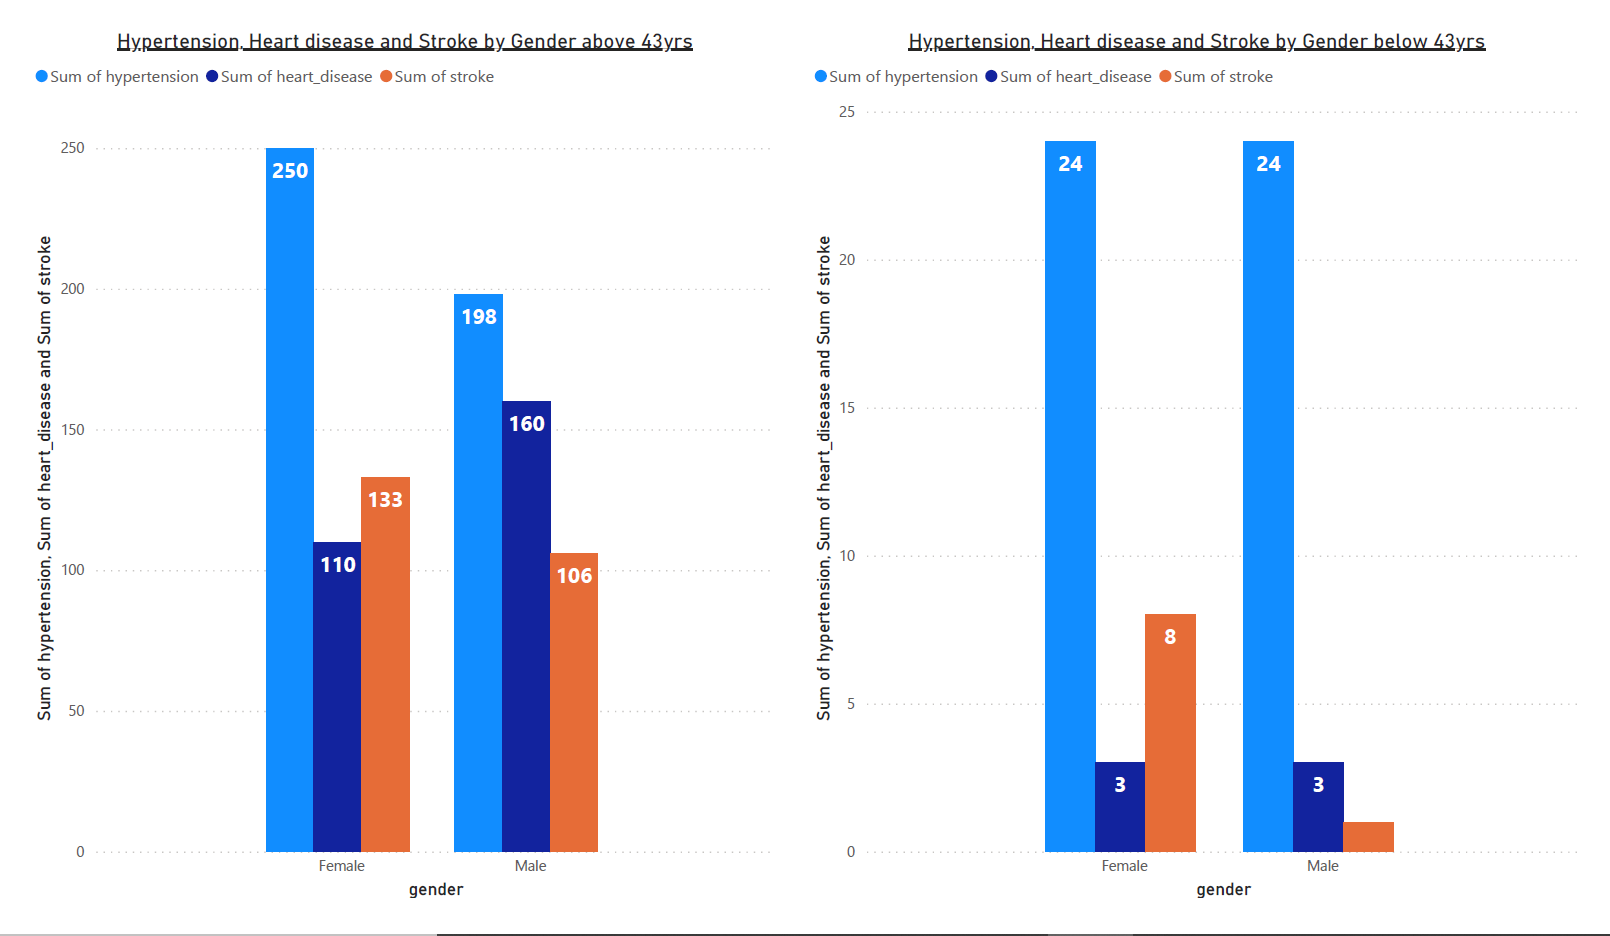

This screenshot's page, from the dashboard's own definition file:
{"tool":"powerbi","page":{"name":"Page 4","canvas":[1280,720],"ordinal":3},"visuals":[{"type":"clusteredColumnChart","title":"Hypertension, Heart disease and Stroke by Gender above 43yrs","fields":{"Category":["Sheet1.gender"],"Y":["Sum(Sheet1.hypertension)","Sum(Sheet1.heart_disease)","Sum(Sheet1.stroke)"]},"box":[0,0,619.2,719.3],"z":0},{"type":"clusteredColumnChart","title":"Hypertension, Heart disease and Stroke by Gender below 43yrs","fields":{"Category":["Sheet2.gender"],"Y":["Sum(Sheet2.hypertension)","Sum(Sheet2.heart_disease)","Sum(Sheet2.stroke)"]},"box":[640,0,640,719.3],"z":1000}]}

Visuals, with their boxes on the page's 1280x720 design canvas (x1, y1, x2, y2). These are canvas units, not pixel positions in the 1610x936 screenshot, which may show the page scaled, cropped or inside an application window:
"Hypertension, Heart disease and Stroke by Gender above 43yrs" clusteredColumnChart: (left=0, top=0, right=619, bottom=719)
"Hypertension, Heart disease and Stroke by Gender below 43yrs" clusteredColumnChart: (left=640, top=0, right=1280, bottom=719)
